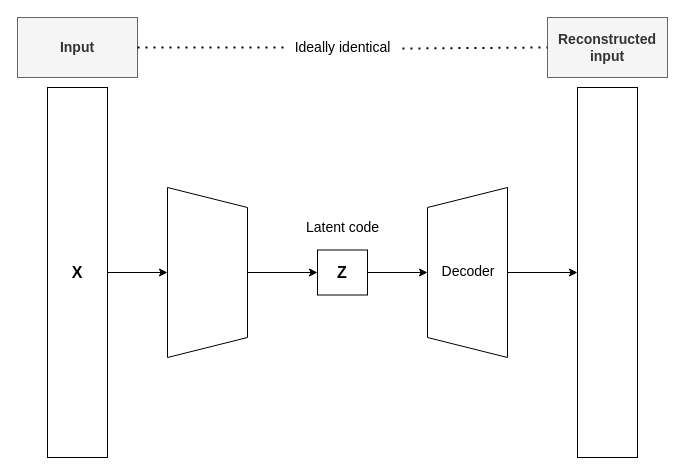
The diagram is 685 pixels wide and 475 high, and some of its shapes have lost their labels. The shapes that lost their labels are listed below. From the top down, each one's centre as x and y in pixels, then its label:
the point at 207,272: Encoder
the point at 607,272: X'
